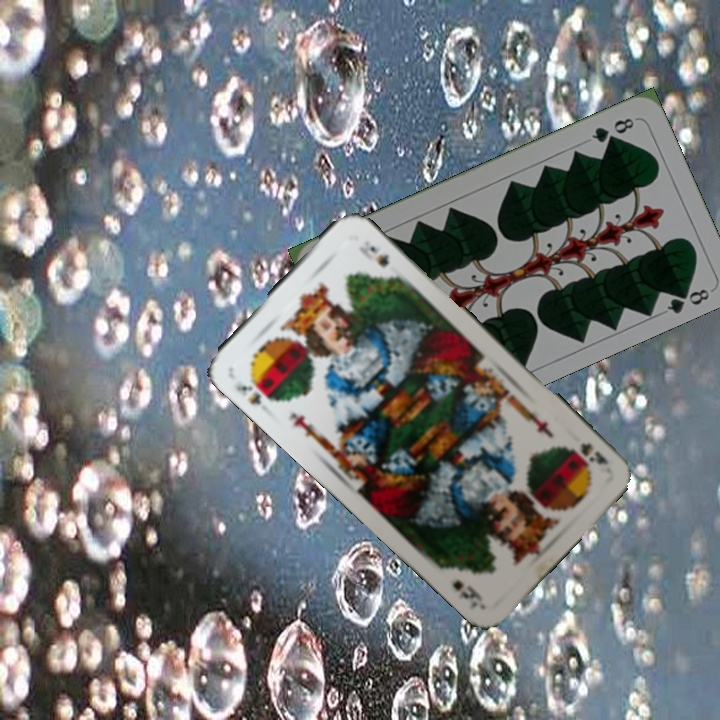G8: (587, 113, 637, 146)
SK: (231, 370, 278, 408), (567, 438, 611, 468)
